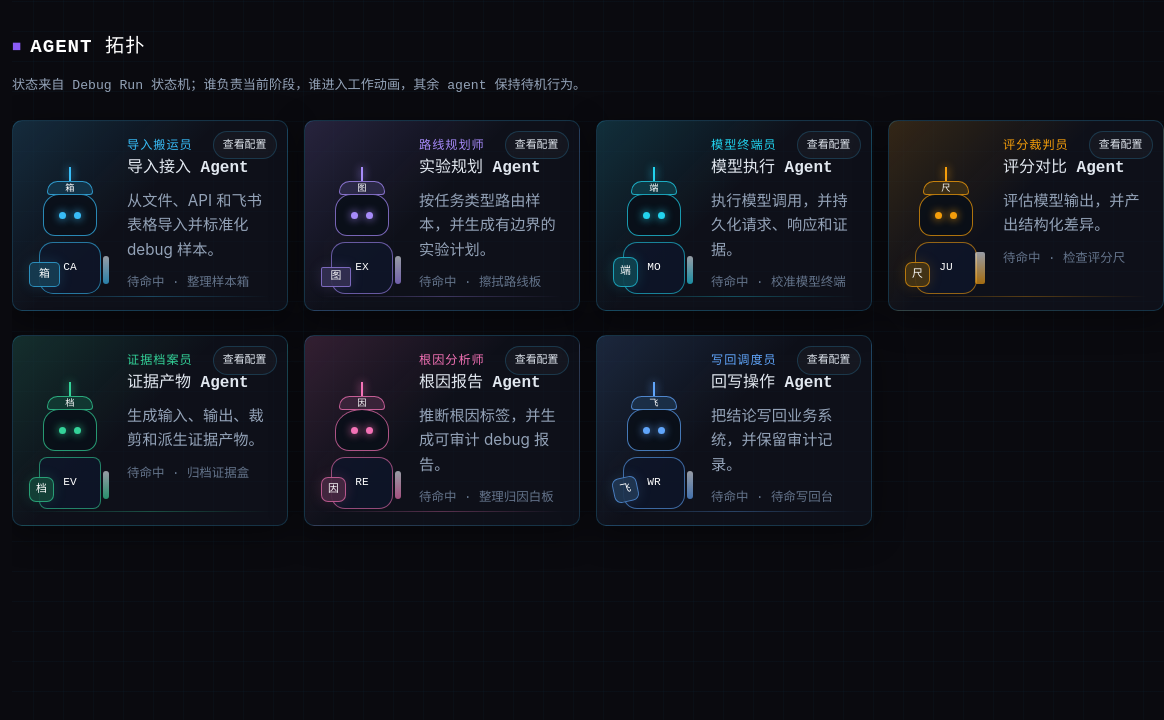
it: AgentTopologyPanel › opens the configuration drawer for 回写操作 Agent
This screenshot has width=1164, height=720.
Click the button "查看配置" next to "写回调度员" at (829, 360), box [797,346,861,374]
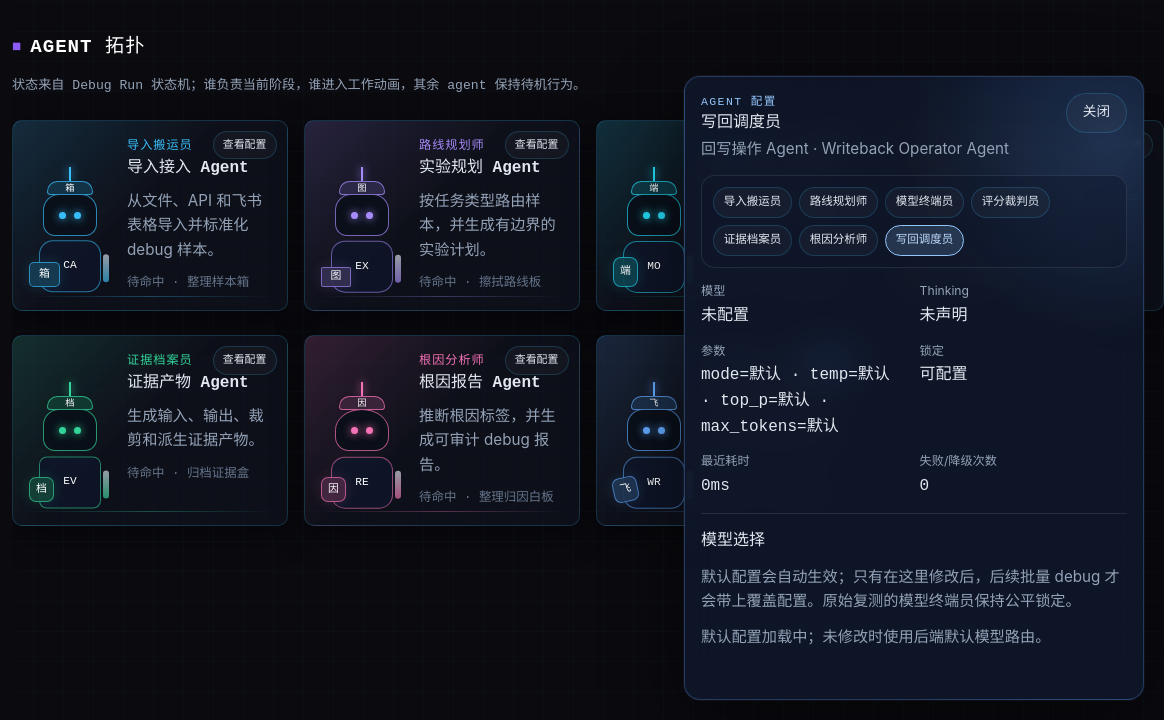
Now the element named "Agent 配置抽屉" is shown, box [684,76,1144,700]
Now the heading "写回调度员" is shown, box [701,114,781,132]
Now the text "回写操作 Agent · Writeback Operator Agent" is shown, box [701,137,1009,161]
